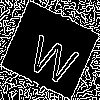W: (25, 25, 84, 87)
